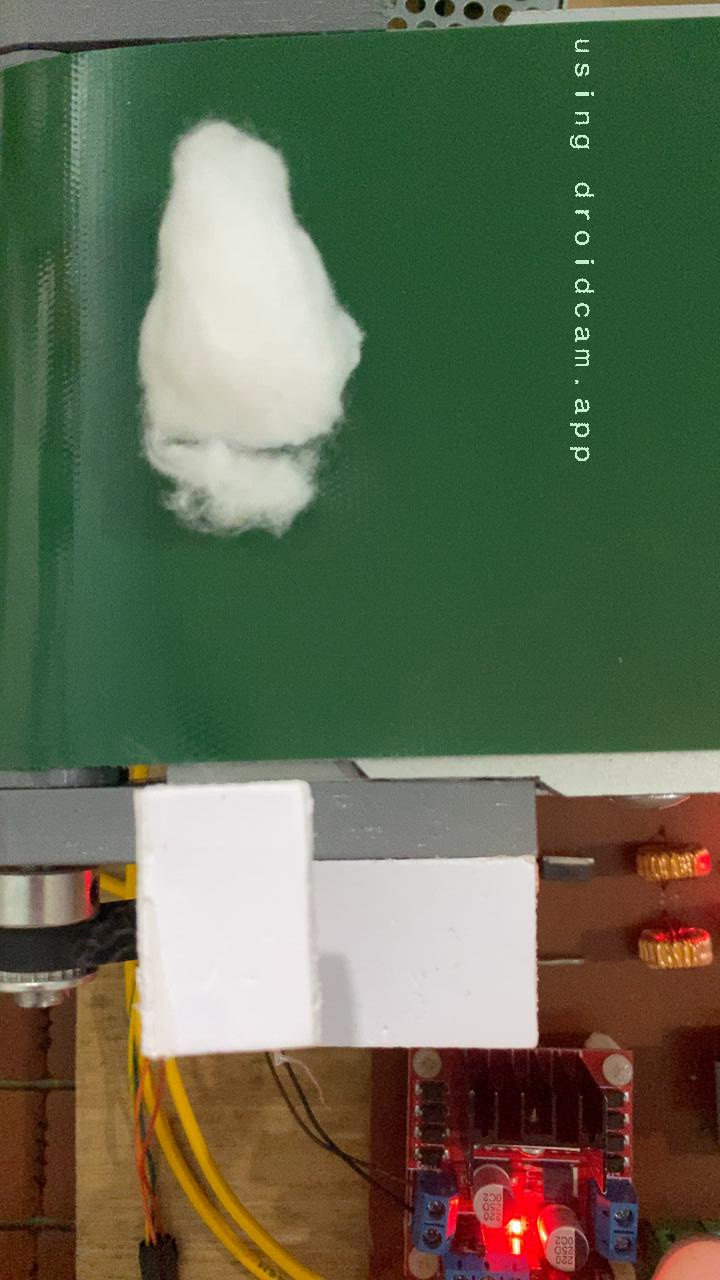cotton: (132, 115, 371, 536)
